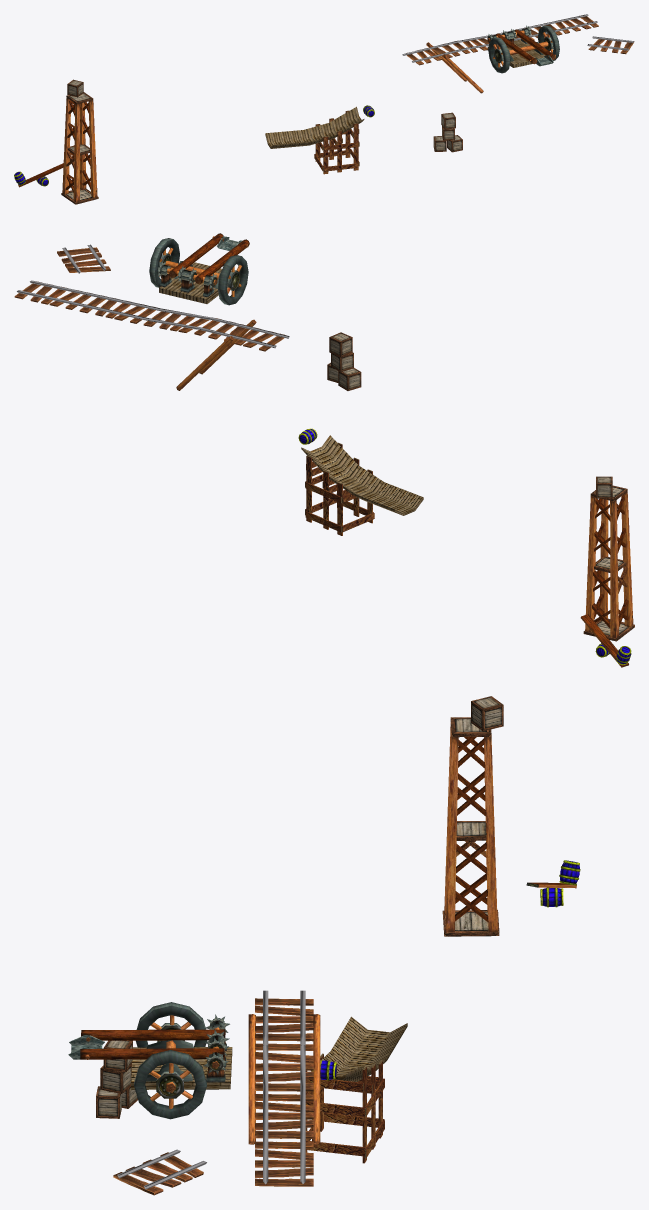
Rendered from CONTRAPTION1.fbx.
The picture shows the model from 3 angles, top to bottom: view 1: azimuth 30°, elevation 25°; view 2: azimuth 150°, elevation 25°; view 3: azimuth 270°, elevation 25°; orthographic projection. The views are drawn at different scales.
Visible parts, largest first — view 1: CONTRAPTION1; view 2: CONTRAPTION1; view 3: CONTRAPTION1.
Boxes of the visible parts, box(x1,y1,x2,y2) form: CONTRAPTION1: box(14, 14, 634, 204); CONTRAPTION1: box(14, 233, 634, 667); CONTRAPTION1: box(68, 696, 580, 1195).
Bounding box in the file's own units: 389960 × 93478 × 167622.
14 materials, 14 textured.
